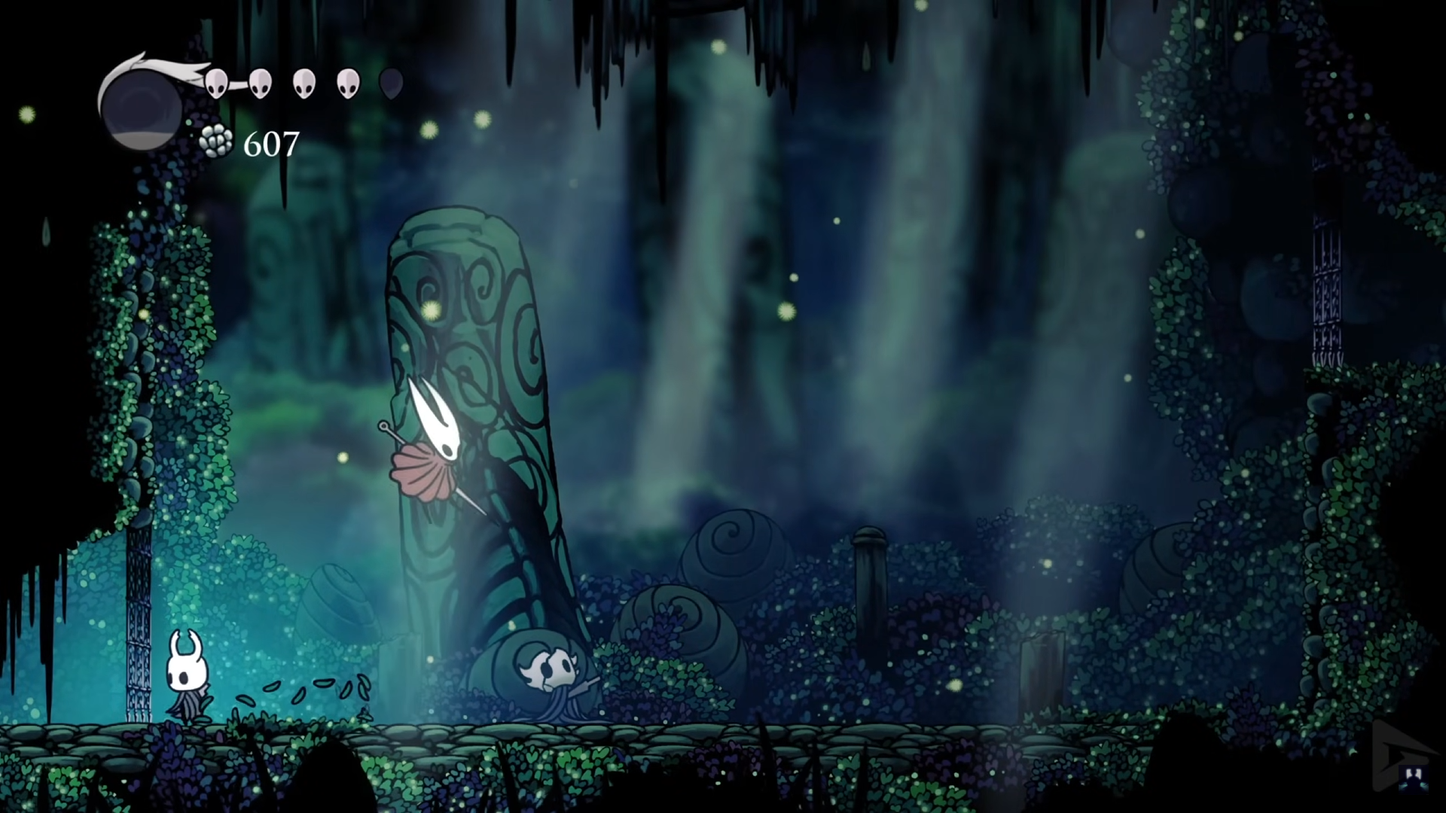HK: (160, 627, 217, 723)
